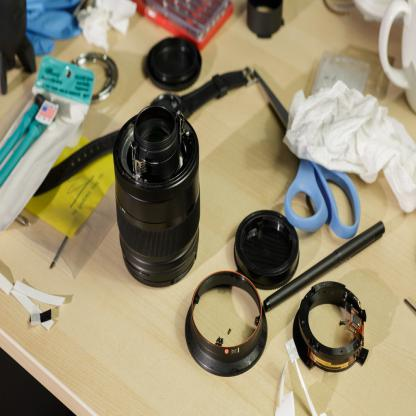Camera: (111, 105, 204, 291)
